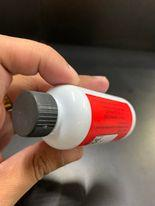-Bottle-: (11, 84, 136, 149)
